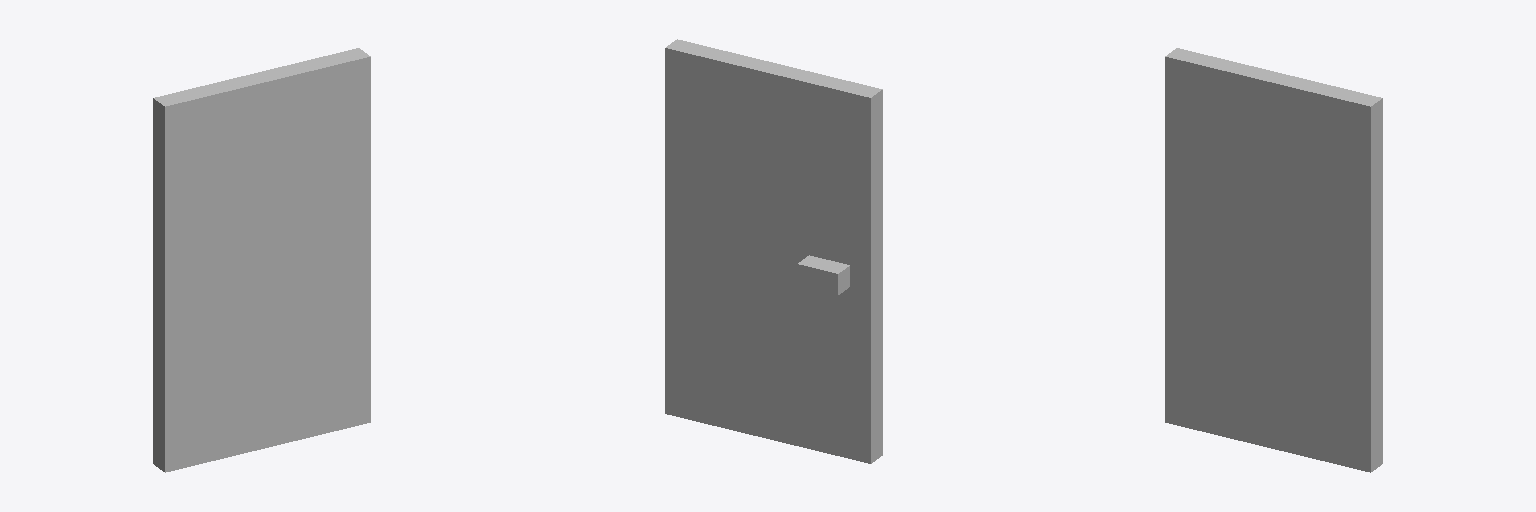
The model's file is Door.obj.
3 renders of one model, left to right at view 1: azimuth 30°, elevation 25°; view 2: azimuth 150°, elevation 25°; view 3: azimuth 330°, elevation 25°, orthographic.
Visible parts, largest first — view 1: cube; view 2: cube; view 3: cube.
Part boxes in pixels (x1,y1,x2,y2): cube: (153,48,370,472); cube: (665,39,882,463); cube: (1165,48,1382,472).
Bounding box in the file's own units: 0.625 × 1.06 × 0.125.